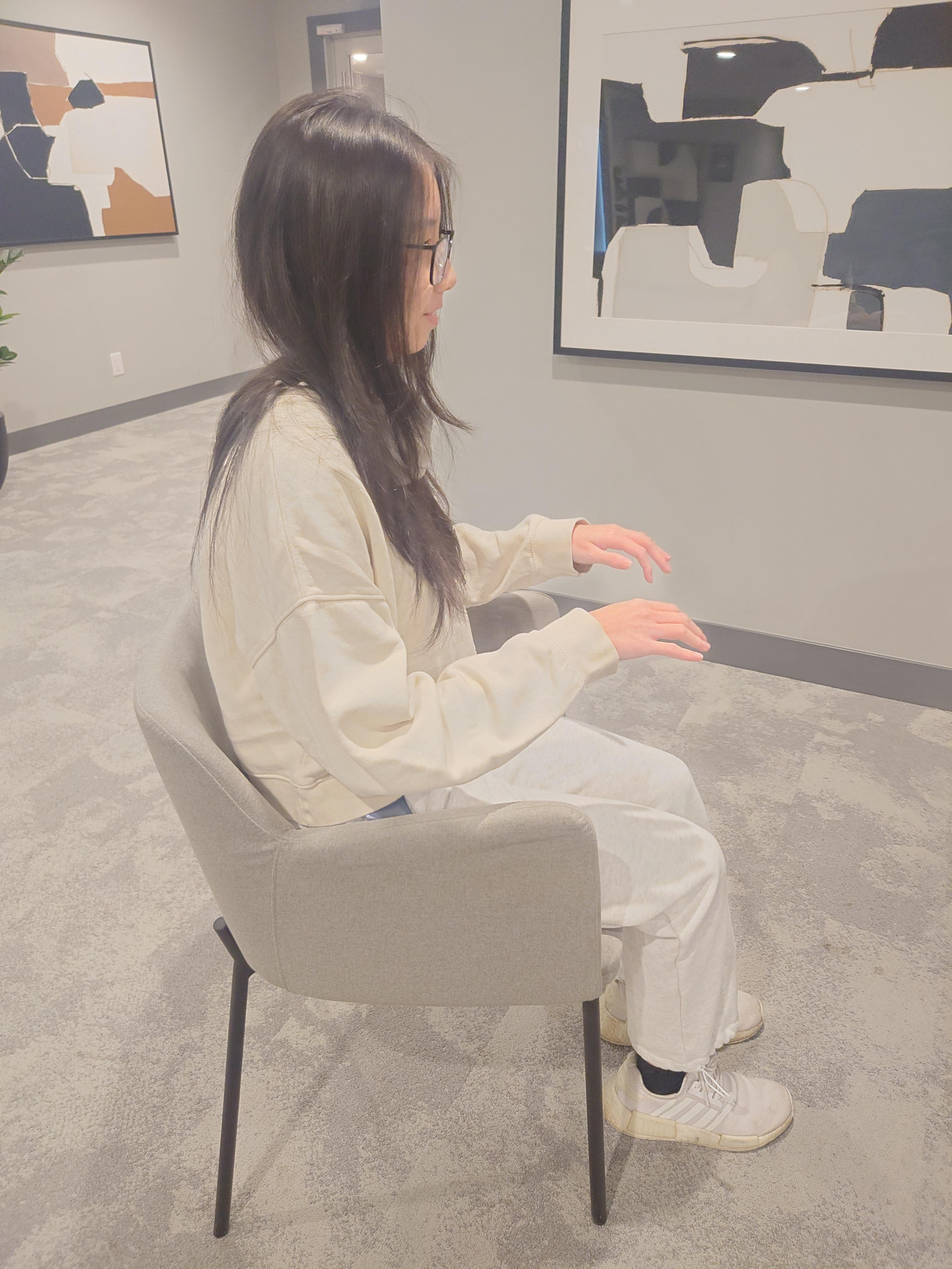GoodPosture: (194, 83, 796, 1155)
